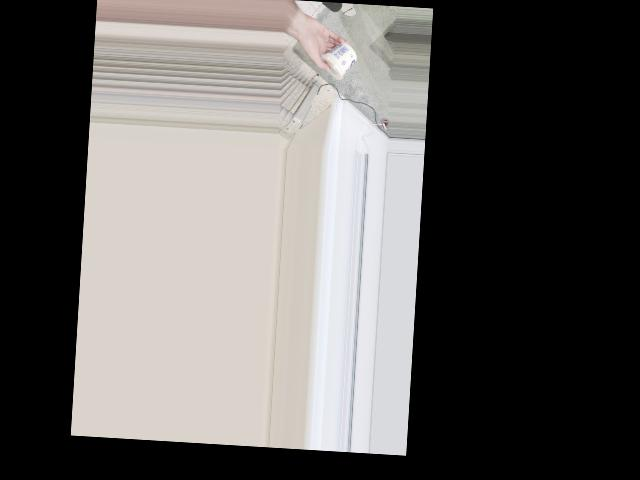cotage: (318, 39, 358, 81)
